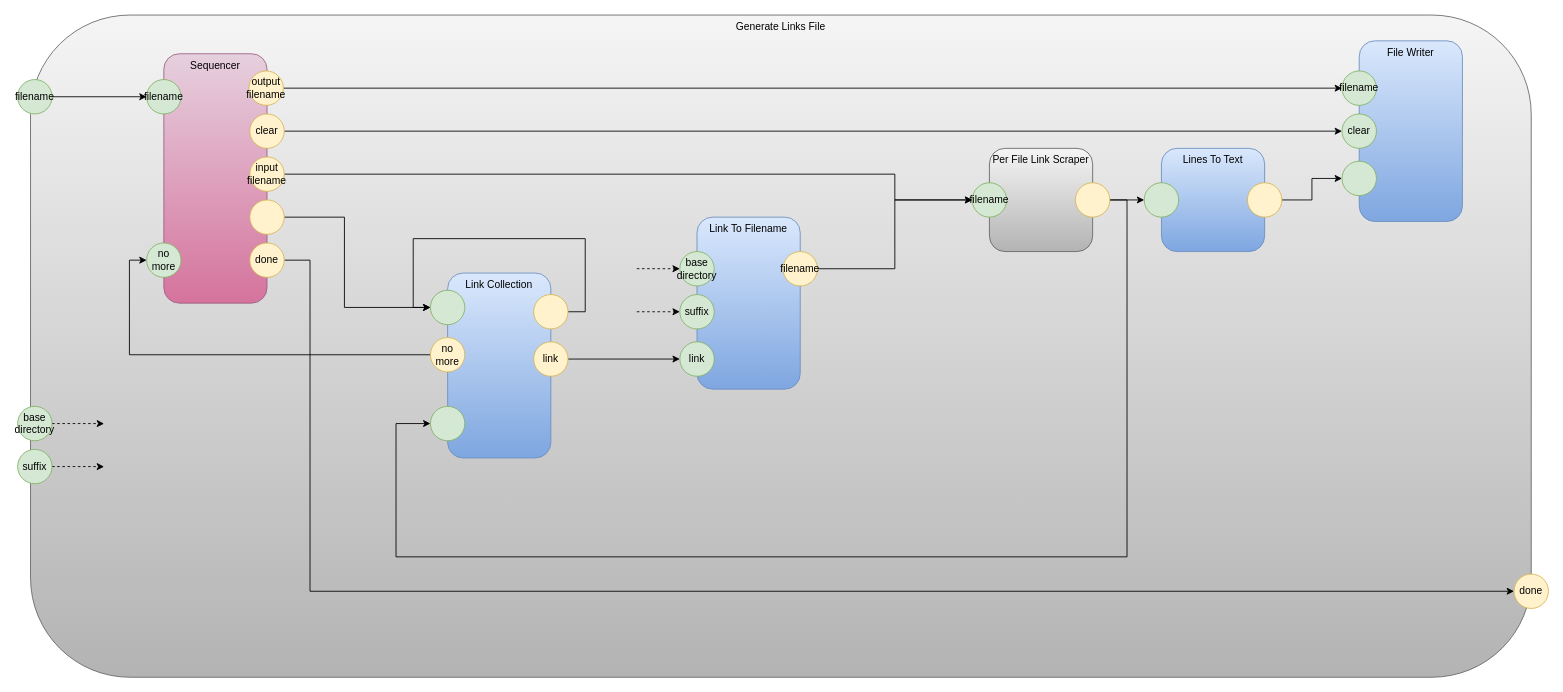
Some shapes in this 1563 by 692 pixel diagram are drawn without their labels. The centre of each missing label's shape, as x and y in pixels:
"[append list]" belongs at [447,423].
"[text]" belongs at [1161,199].
"append" belongs at [1358,178].
"first time" belongs at [550,311].
"output" belongs at [1092,199].
"req" belongs at [266,216].
"req next" belongs at [447,307].
"text" belongs at [1264,199].
